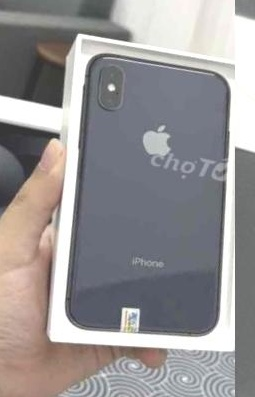physical_damage: (235, 67, 255, 142)
